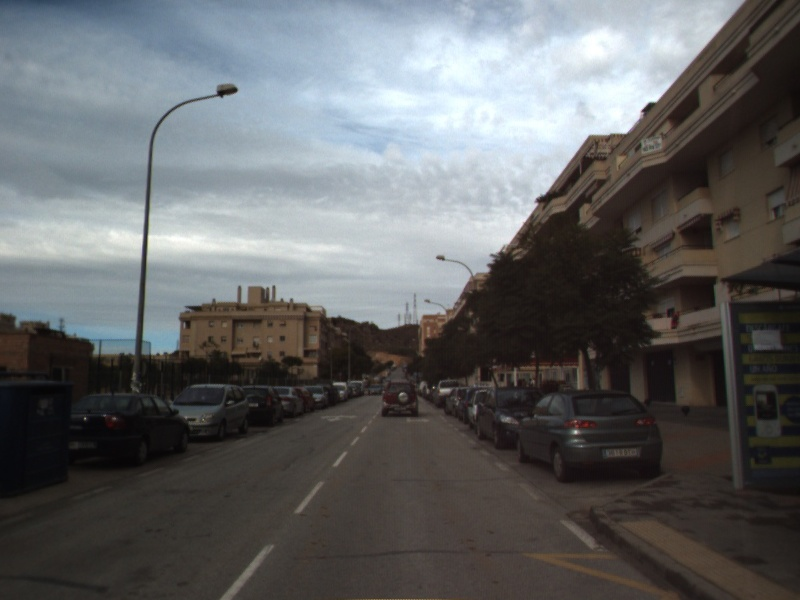STRAIGHT_RIGHT: (404, 415, 432, 424)
